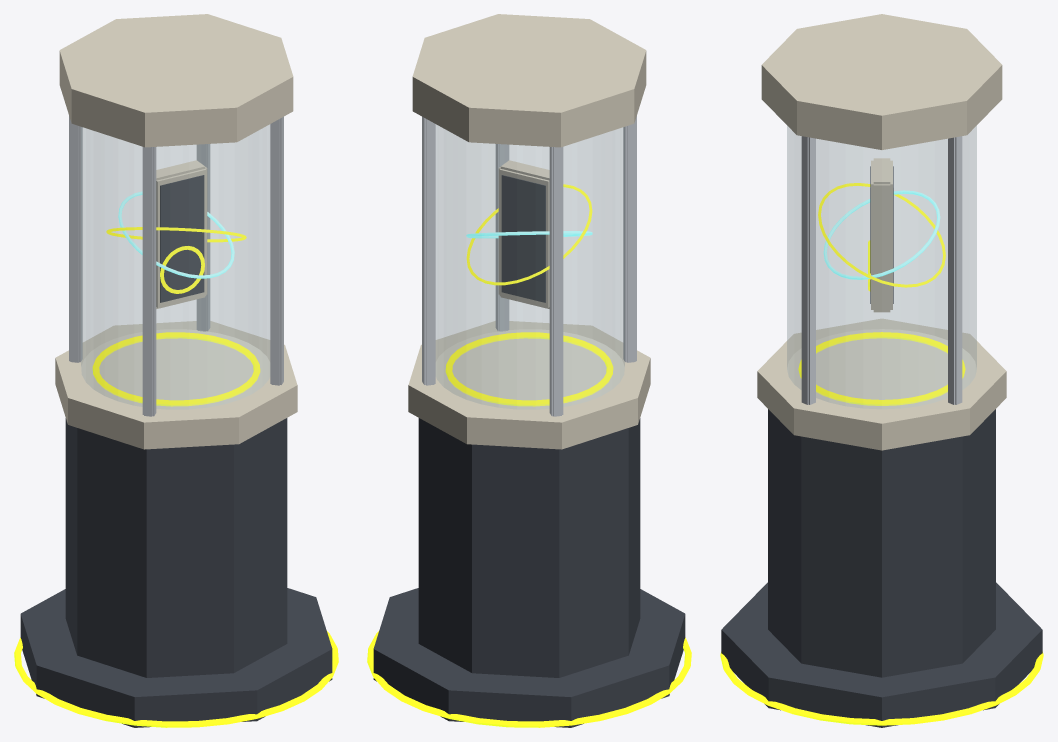
File: gpu_core_pedestal.glb
3 views of the same model, side by side, from view 1: azimuth 30°, elevation 25°; view 2: azimuth 150°, elevation 25°; view 3: azimuth 270°, elevation 25° (orthographic).
Parts seen in each view (by area): view 1: Pedestal_Column, Pedestal_CryoGlass, Pedestal_TopManifold, Pedestal_UpperCollar, Pedestal_FloorPlinth, Core_Heatsink, Pedestal_Strut_2, Pedestal_Strut_3, Pedestal_Strut_1, Pedestal_FloorRing, Pedestal_ChamberHalo_Bottom, Core_Shroud (+4 smaller); view 2: Pedestal_Column, Pedestal_CryoGlass, Pedestal_TopManifold, Pedestal_UpperCollar, Pedestal_FloorPlinth, Core_Heatsink, Pedestal_Strut_1, Pedestal_Strut_0, Pedestal_Strut_2, Pedestal_FloorRing, Pedestal_ChamberHalo_Bottom, Core_Shroud (+3 smaller); view 3: Pedestal_Column, Pedestal_CryoGlass, Pedestal_TopManifold, Pedestal_UpperCollar, Pedestal_FloorPlinth, Pedestal_Strut_0, Pedestal_Strut_3, Core_Shroud, Pedestal_FloorRing, Pedestal_ChamberHalo_Bottom, Core_HoloRing_2, Core_HoloRing_1.
Boxes of the visible parts, bbox=[...] form: Pedestal_Column: bbox=[65, 418, 287, 677]; Pedestal_CryoGlass: bbox=[81, 124, 269, 409]; Pedestal_TopManifold: bbox=[59, 14, 293, 147]; Pedestal_UpperCollar: bbox=[55, 321, 297, 449]; Pedestal_FloorPlinth: bbox=[20, 588, 332, 727]; Core_Heatsink: bbox=[160, 175, 204, 302]; Pedestal_Strut_2: bbox=[142, 147, 156, 416]; Pedestal_Strut_3: bbox=[270, 116, 283, 385]; Pedestal_Strut_1: bbox=[69, 116, 82, 362]; Pedestal_FloorRing: bbox=[14, 631, 338, 727]; Pedestal_ChamberHalo_Bottom: bbox=[92, 332, 260, 406]; Core_Shroud: bbox=[156, 160, 207, 308]; Pedestal_Column: bbox=[418, 418, 640, 677]; Pedestal_CryoGlass: bbox=[436, 124, 624, 409]; Pedestal_TopManifold: bbox=[412, 14, 646, 147]; Pedestal_UpperCollar: bbox=[408, 321, 650, 449]; Pedestal_FloorPlinth: bbox=[373, 588, 685, 727]; Core_Heatsink: bbox=[501, 175, 545, 302]; Pedestal_Strut_1: bbox=[549, 147, 563, 416]; Pedestal_Strut_0: bbox=[422, 116, 435, 385]; Pedestal_Strut_2: bbox=[623, 116, 636, 362]; Pedestal_FloorRing: bbox=[367, 631, 691, 727]; Pedestal_ChamberHalo_Bottom: bbox=[445, 332, 613, 406]; Core_Shroud: bbox=[498, 160, 549, 308]; Pedestal_Column: bbox=[768, 409, 995, 677]; Pedestal_CryoGlass: bbox=[787, 126, 976, 408]; Pedestal_TopManifold: bbox=[761, 14, 1002, 149]; Pedestal_UpperCollar: bbox=[757, 318, 1006, 450]; Pedestal_FloorPlinth: bbox=[721, 582, 1042, 727]; Pedestal_Strut_0: bbox=[948, 136, 962, 404]; Pedestal_Strut_3: bbox=[801, 136, 815, 404]; Core_Shroud: bbox=[871, 158, 892, 312]; Pedestal_FloorRing: bbox=[720, 652, 1043, 725]; Pedestal_ChamberHalo_Bottom: bbox=[798, 332, 965, 405]; Core_HoloRing_2: bbox=[818, 183, 945, 287]; Core_HoloRing_1: bbox=[823, 190, 940, 279].
Size of the model in its own units: 0.766 by 1.55 by 0.766.
